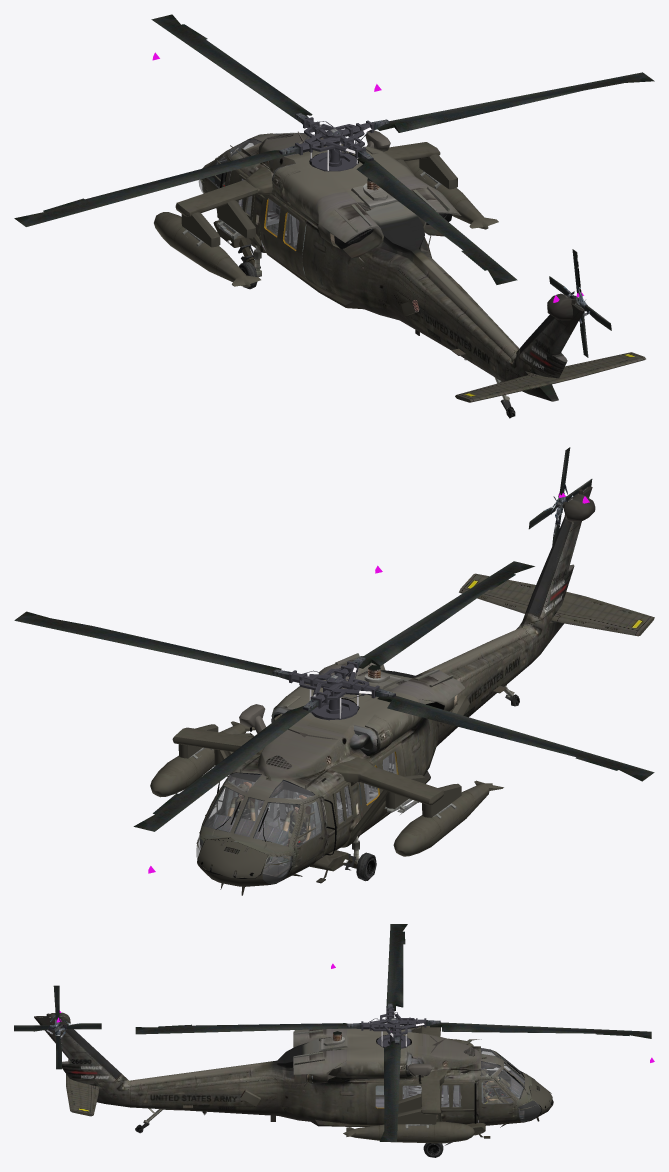
File: transport.glb
The picture shows the model from 3 angles, top to bottom: view 1: azimuth 30°, elevation 25°; view 2: azimuth 150°, elevation 25°; view 3: azimuth 270°, elevation 25°; orthographic projection. The views are drawn at different scales.
Parts seen in each view (by area): view 1: Body_7, Rotor_1, Body_1, Body_5, Body_10; view 2: Body_7, Rotor_1, Body_10, Body_1, Body_5, Body_6, Body_9; view 3: Body_7, Rotor_1, Body_10, Body_1, Body_5, Body_6, TailRotor_1.
Part boxes in pixels (x1,y1,x2,y2): Body_7: (154, 130, 645, 418); Rotor_1: (14, 14, 654, 284); Body_1: (222, 113, 389, 185); Body_5: (214, 140, 611, 357); Body_10: (198, 143, 299, 249); Body_7: (150, 486, 654, 895); Rotor_1: (14, 561, 654, 831); Body_10: (196, 752, 397, 884); Body_1: (227, 656, 395, 865); Body_5: (225, 479, 592, 862); Body_6: (200, 772, 351, 884); Body_9: (228, 773, 314, 799); Body_7: (34, 1012, 553, 1157); Rotor_1: (135, 924, 651, 1141); Body_10: (376, 1051, 541, 1121); Body_1: (347, 1003, 510, 1103); Body_5: (14, 1023, 539, 1117); Body_6: (375, 1048, 540, 1122); TailRotor_1: (46, 985, 70, 1035).
Size of the model in its own units: 24.27 by 9 by 30.15.
Materials: 11 (10 with a texture image).
